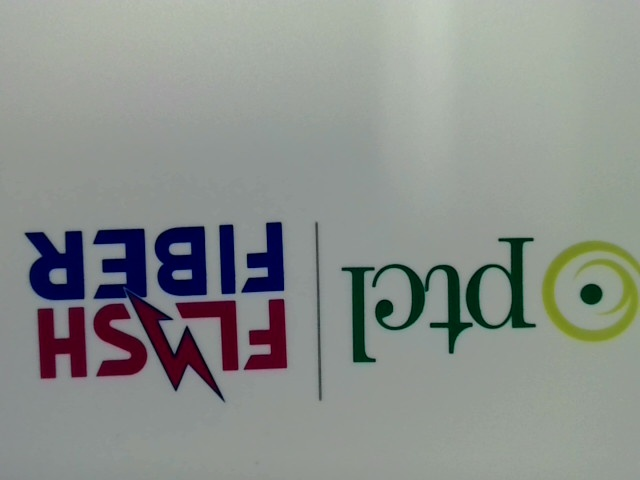BF_PTCL: (333, 231, 639, 367)
